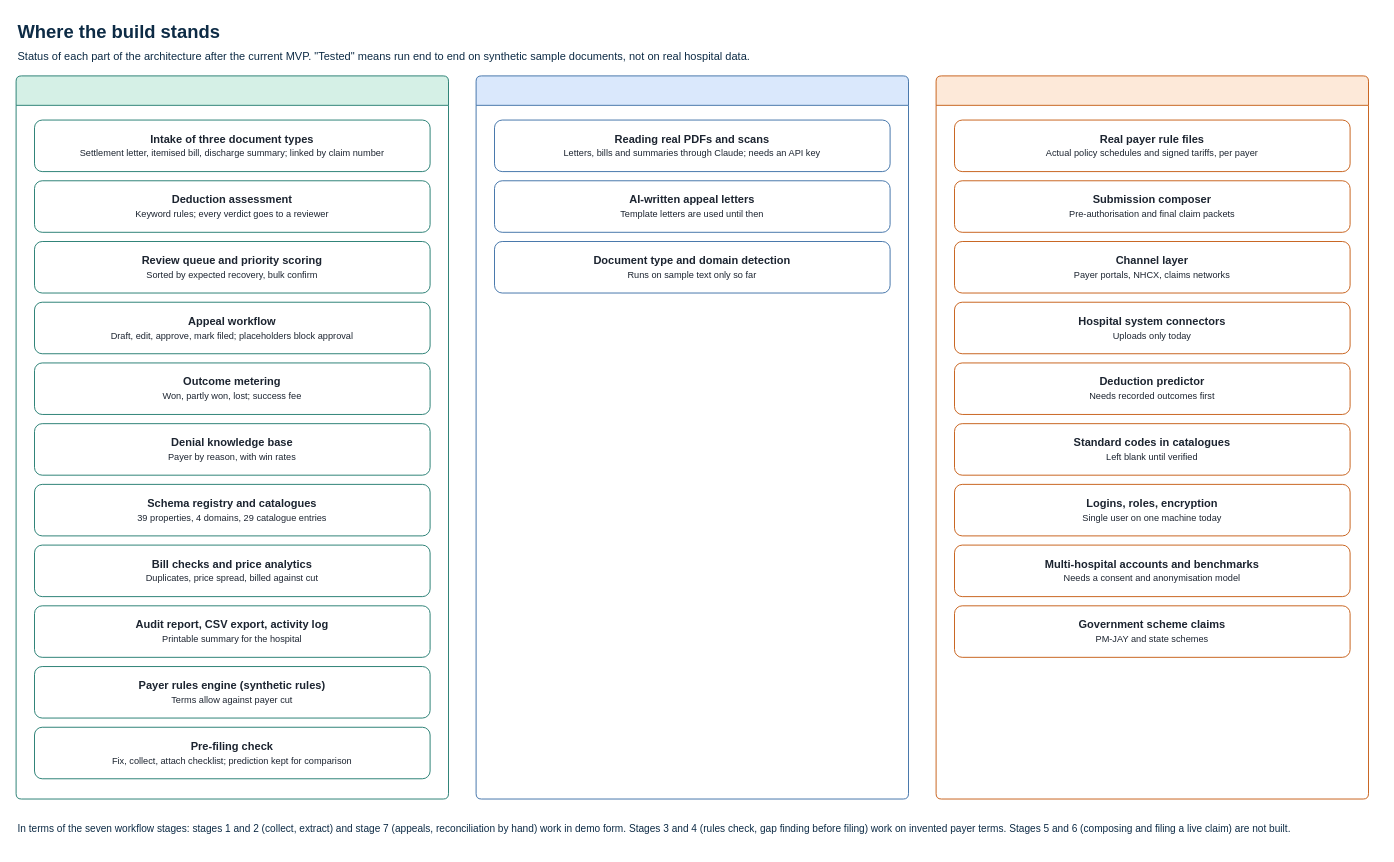
Some shapes in this 1394 by 862 pixel diagram are drawn without their labels. Here are the shapes that lost their labels. From the top down, the box of each, then its label:
(15, 75, 448, 799): Built and tested in demo mode
(475, 75, 908, 799): Written but never run on real input
(935, 75, 1368, 799): Not built yet
